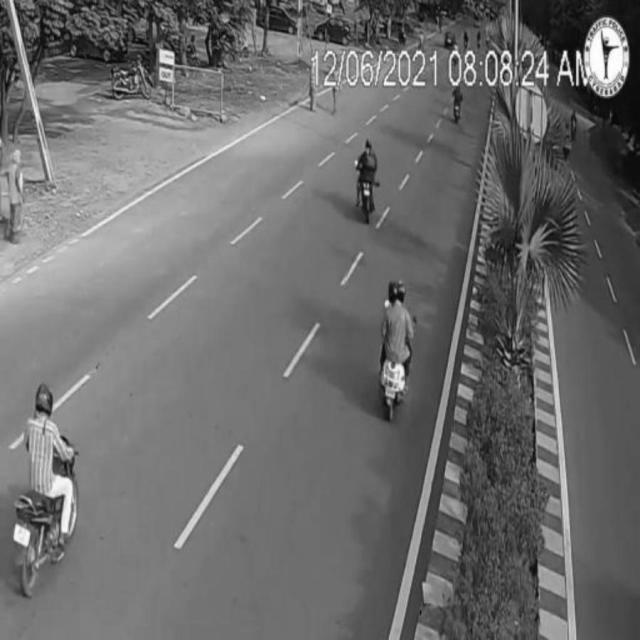accident: (356, 137, 380, 225)
vehicle: (13, 384, 83, 598), (383, 281, 413, 417), (449, 84, 465, 121)
